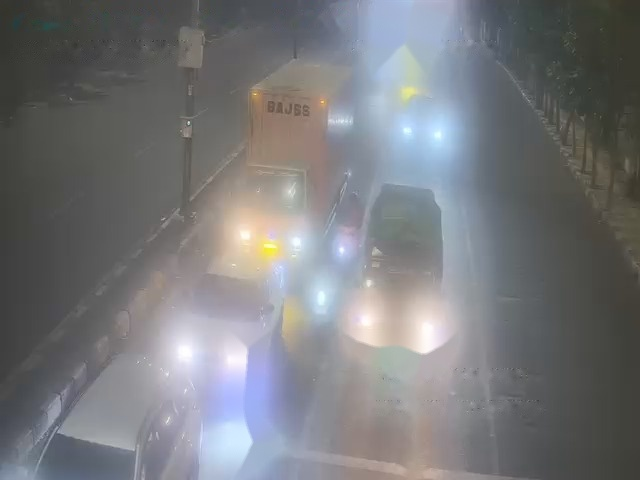Mobil: (19, 348, 196, 477), (180, 232, 281, 381), (360, 185, 446, 349), (398, 81, 448, 155)
Motor: (334, 227, 356, 261), (316, 279, 328, 326)
Truk: (239, 56, 361, 261)
